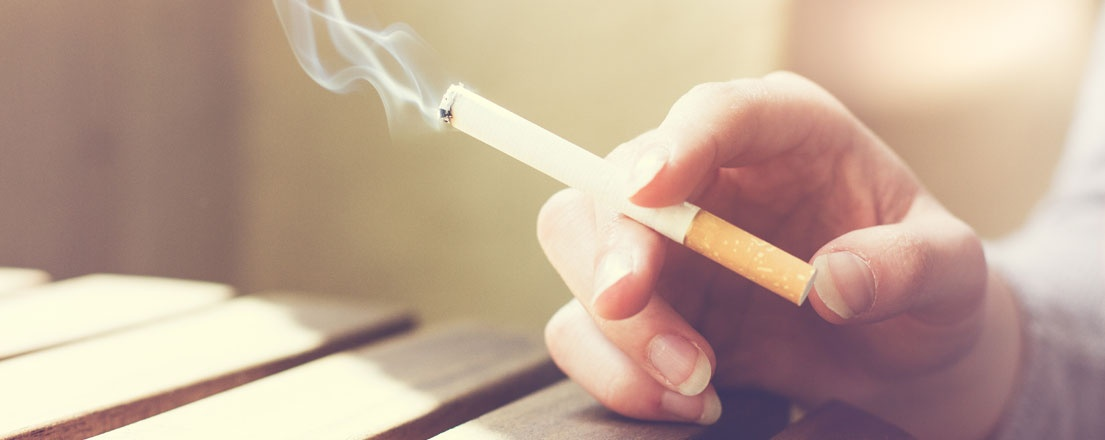sigaretta: (448, 83, 819, 308)
